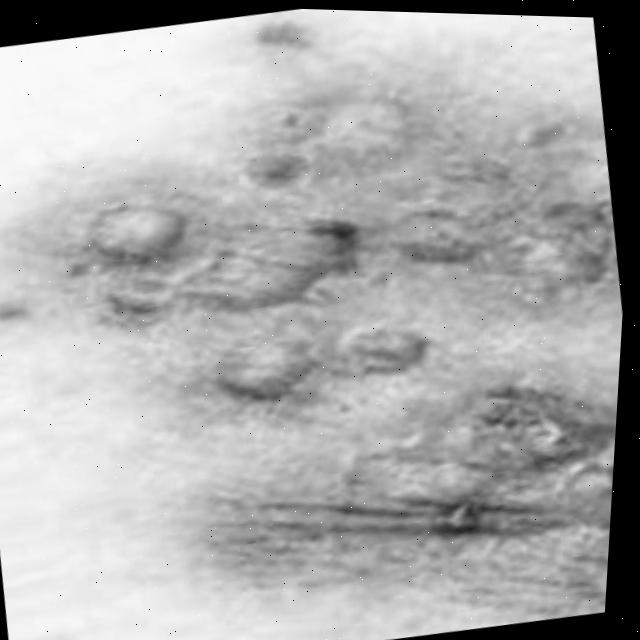Shingles: (0, 15, 639, 640)
